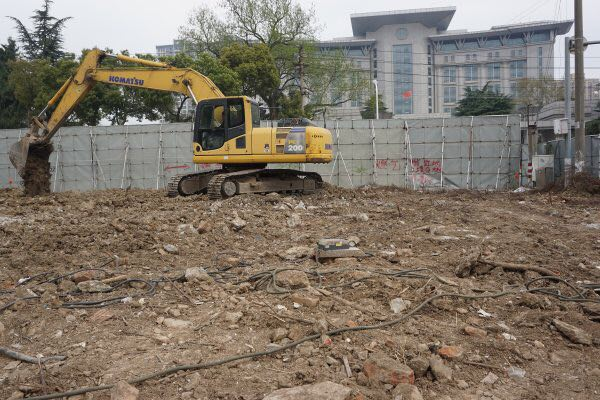excavator: (9, 40, 346, 202)
